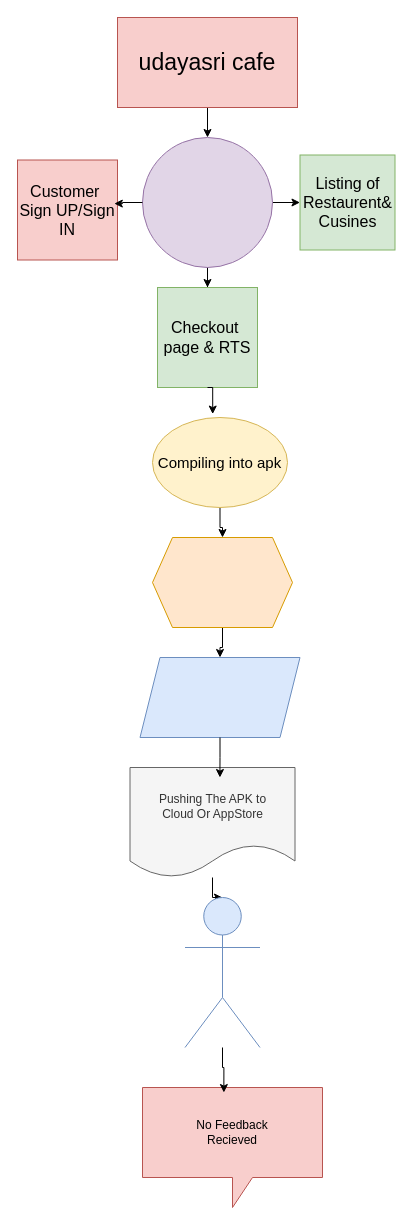
This 413x1225 diagram has some shape labels left out. The centre of each missing label's shape, as x and y in pixels:
Customer Using Application: the point at 222,972
Design UIUX: the point at 207,202
No bugs found: the point at 222,582
Writing Permission for Deployment: the point at 219,697
